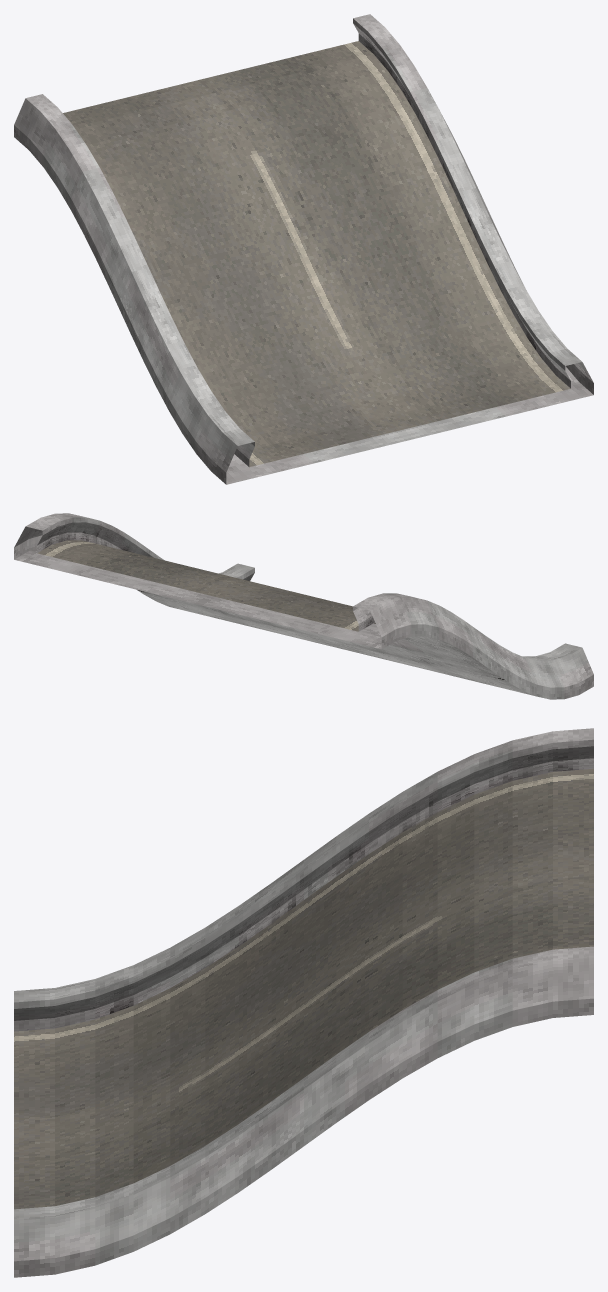
The model's file is straight1.glb.
The picture shows the model from 3 angles, top to bottom: view 1: azimuth 30°, elevation 25°; view 2: azimuth 150°, elevation 25°; view 3: azimuth 270°, elevation 25°; orthographic projection. The views are drawn at different scales.
Parts seen in each view (by area): view 1: road-Straight-Flat-Flat-Up2-Center-Size1; view 2: road-Straight-Flat-Flat-Up2-Center-Size1; view 3: road-Straight-Flat-Flat-Up2-Center-Size1.
Boxes of the visible parts, bbox=[...] form: road-Straight-Flat-Flat-Up2-Center-Size1: bbox=[14, 14, 593, 484]; road-Straight-Flat-Flat-Up2-Center-Size1: bbox=[14, 513, 593, 699]; road-Straight-Flat-Flat-Up2-Center-Size1: bbox=[14, 728, 593, 1277].
Size of the model in its own units: 1 by 0.5938 by 1.
2 materials, 2 textured.
